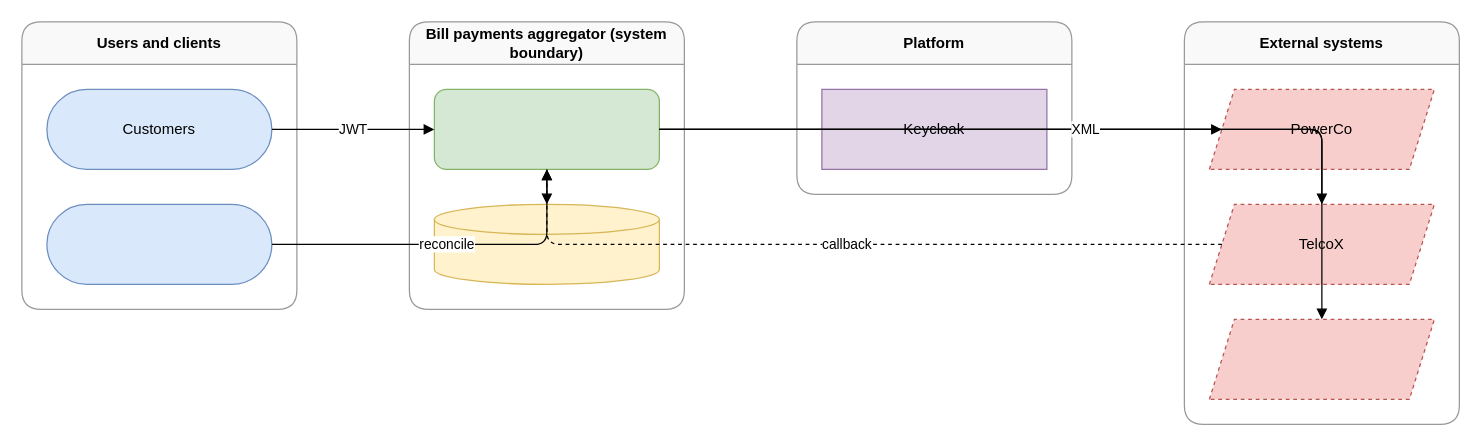
Image size: 1481x446. Some labels were removed from this diagram. Here are the shapes that lost their labels. From the top down, the centre of each, then its label:
At (x=546, y=128): "Bill payments API".
At (x=159, y=243): "Operations".
At (x=546, y=243): "Payments and wallets".
At (x=1321, y=358): "CableTV".
